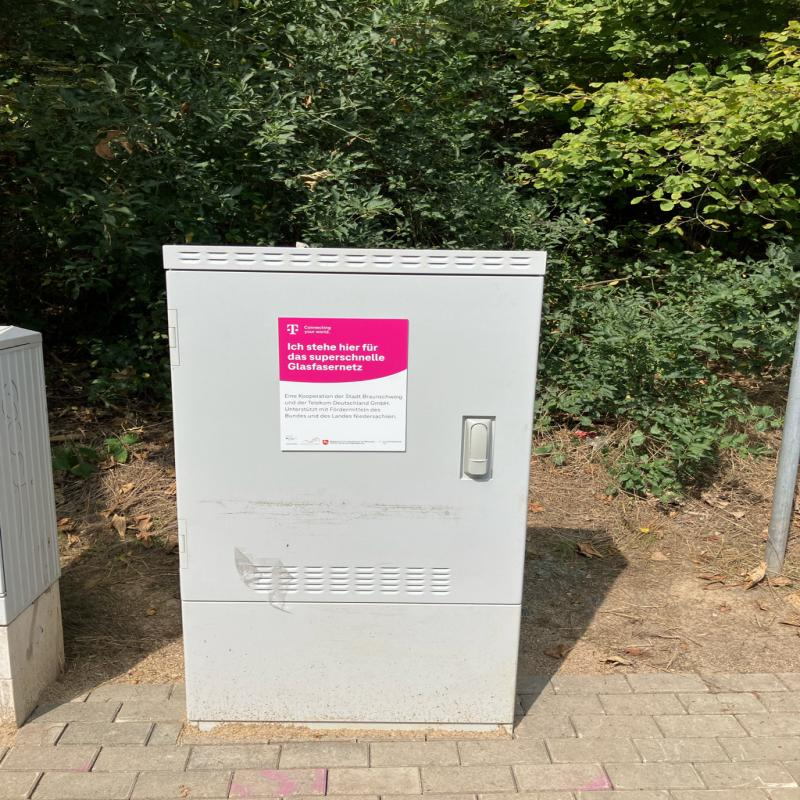NT-Gehause: (166, 243, 538, 734)
Steaker: (274, 316, 411, 453)
